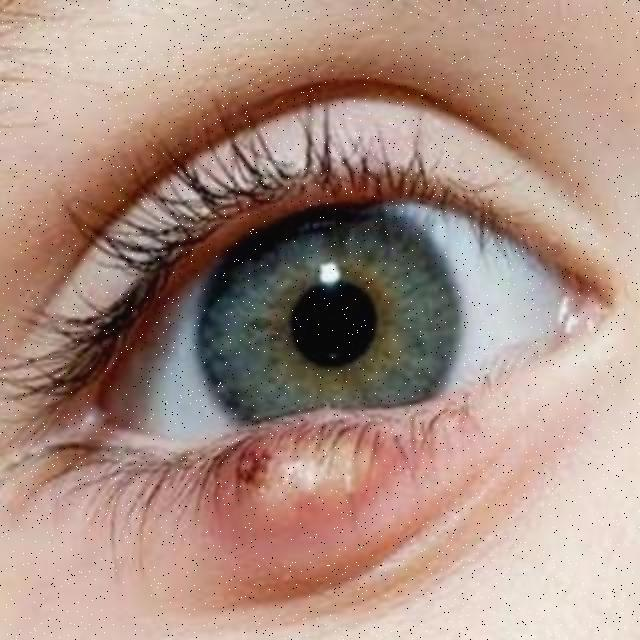Stye: (127, 396, 480, 594)
